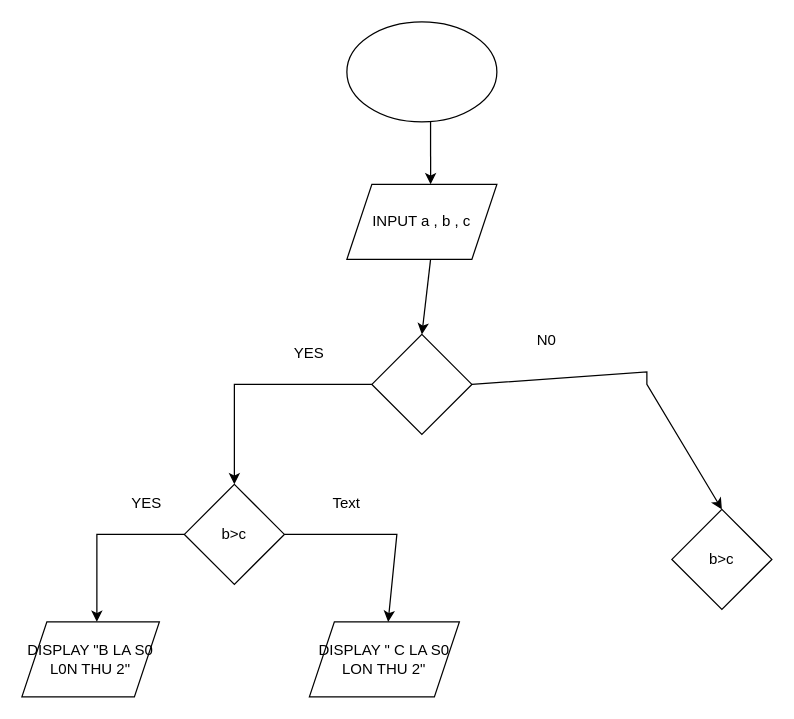
This 794x719 diagram has some shape labels left out. Here are the shapes that lost their labels. From the top down, the centre of each, then its label:
the point at 421,71: BEGIN
the point at 421,383: a>b
